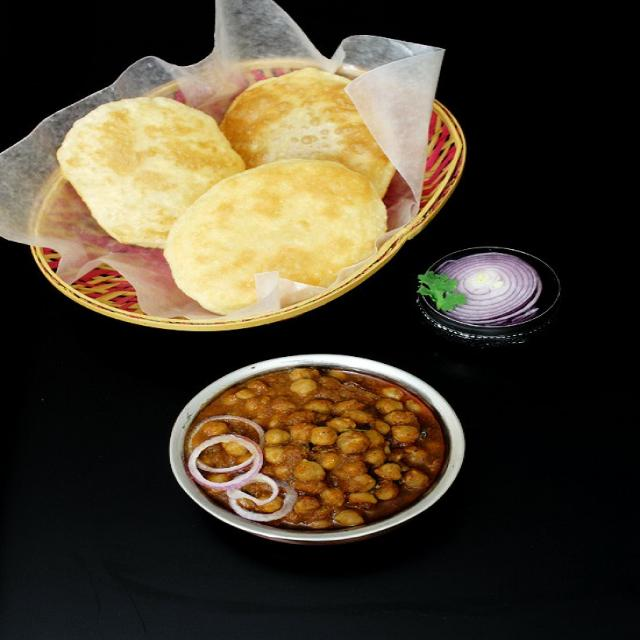Bhatura: (163, 160, 387, 314), (57, 96, 245, 248), (222, 68, 397, 200)
Chole: (187, 365, 451, 533)
